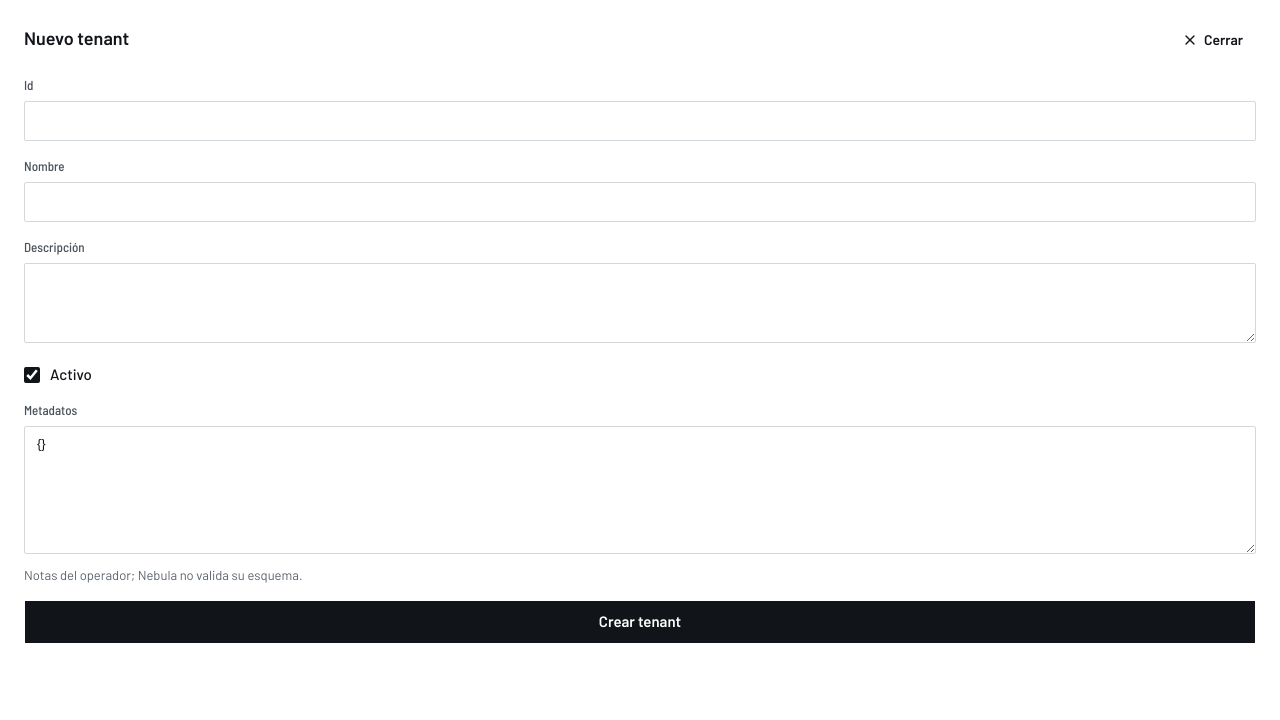
it: tenant-editor-drawer › validates metadata JSON before submit
In the field labelled "Id": {"x": 640, "y": 121} x1=24 y1=101 x2=1256 y2=141, type "new-team"
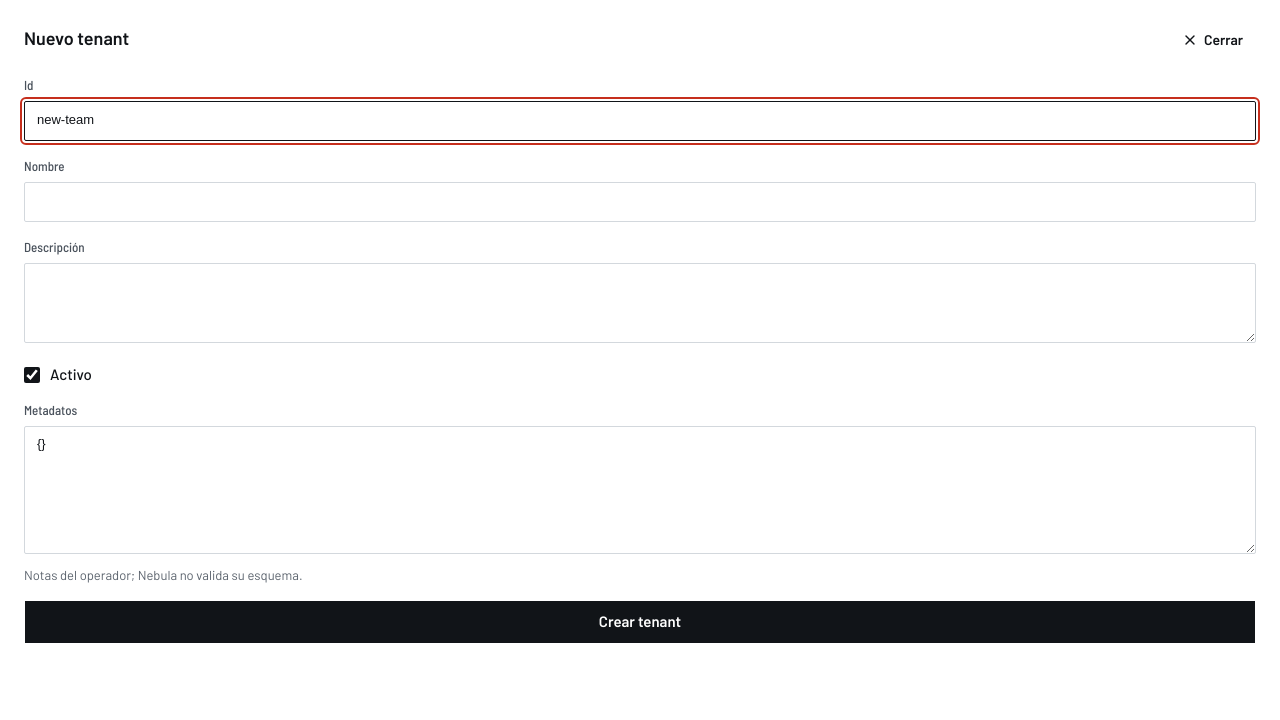
In the field labelled "Nombre": {"x": 640, "y": 202} x1=24 y1=182 x2=1256 y2=222, type "New Team"
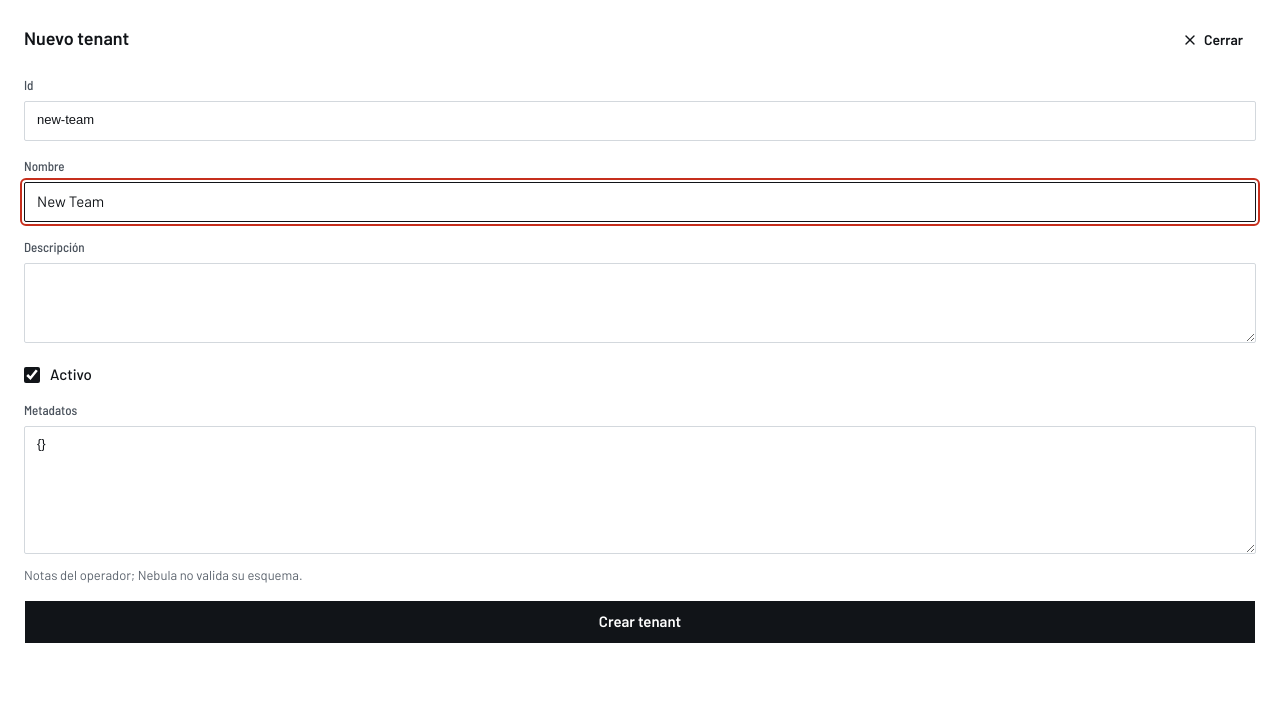
Replace the text in the text box labelled "Metadatos" with "bad json": {"x": 640, "y": 490} x1=24 y1=426 x2=1256 y2=554
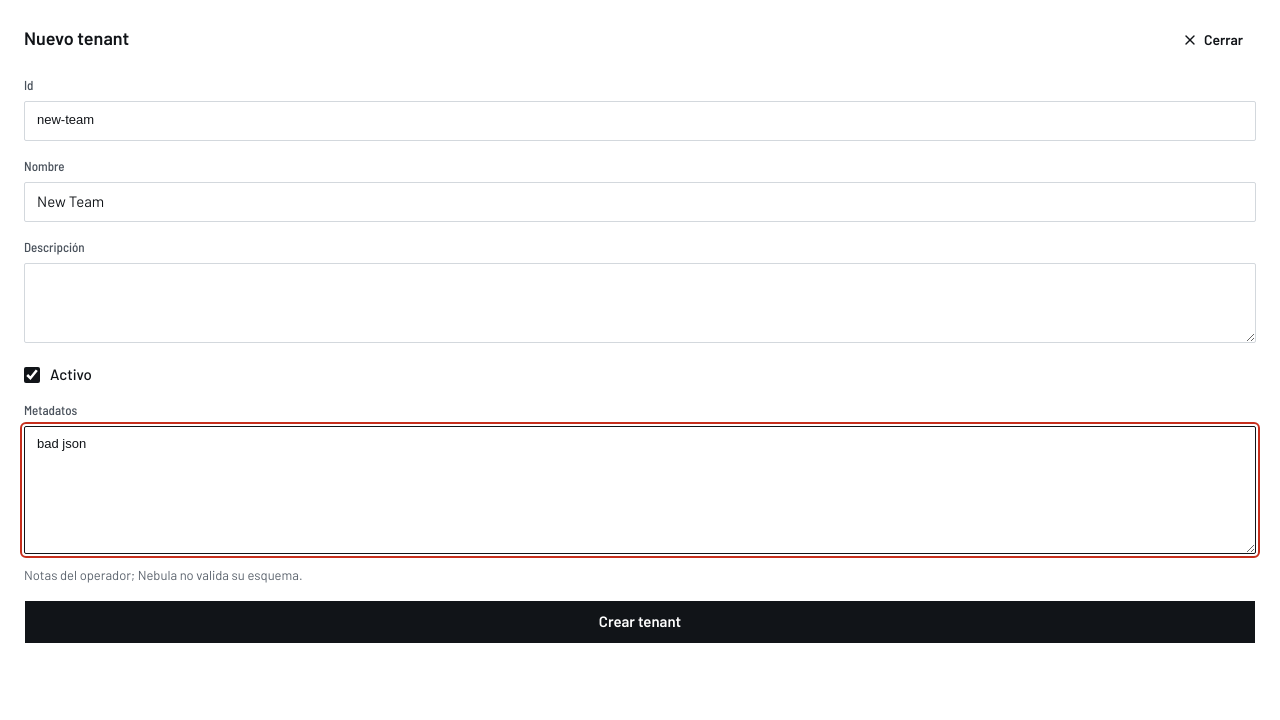
Click the button "Crear tenant": {"x": 640, "y": 622} x1=24 y1=600 x2=1256 y2=644
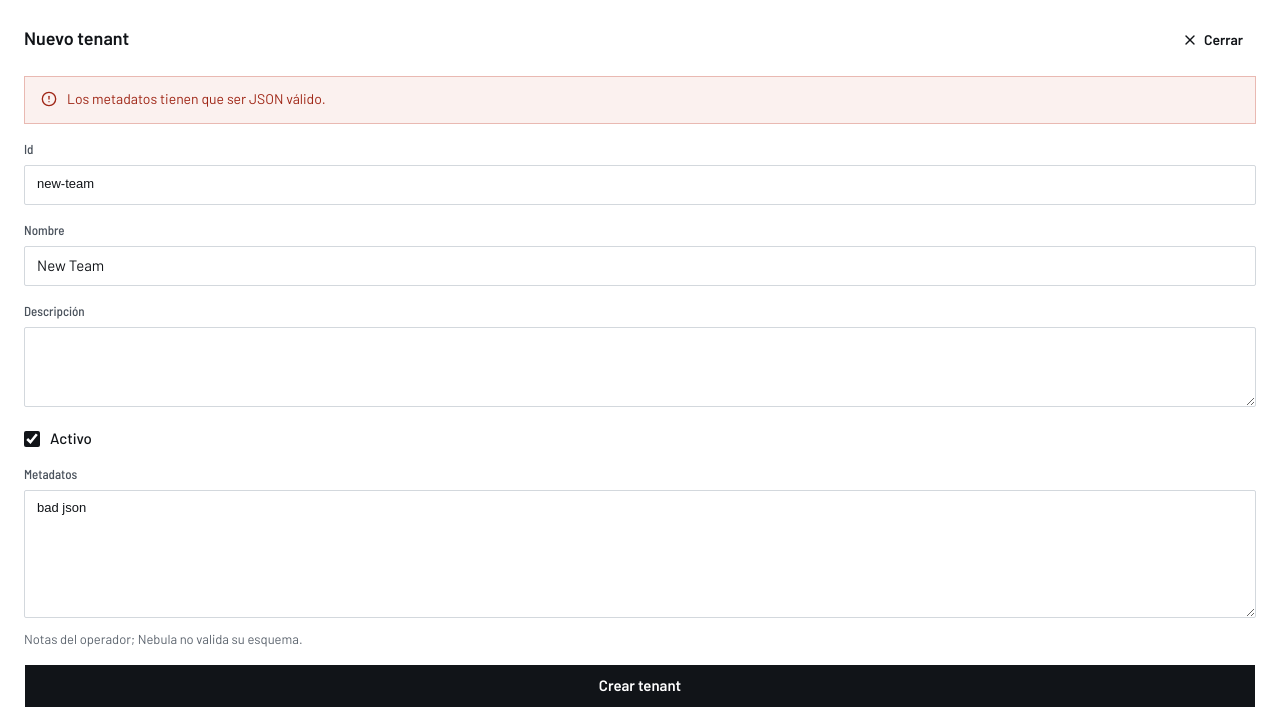
Check: the text "Los metadatos tienen que ser JSON válido." is shown, box x1=67 y1=90 x2=326 y2=107
